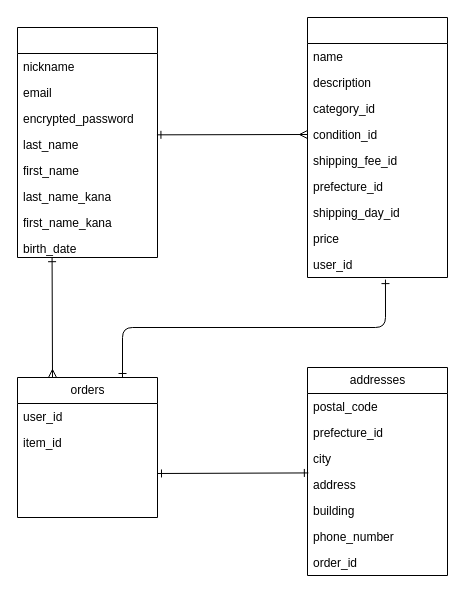
The diagram is 465 pixels wide and 596 high, and some of its shapes have lost their labels. Each missing label, with the box of its shape:
items: (306, 16, 448, 278)
users: (16, 26, 158, 258)
